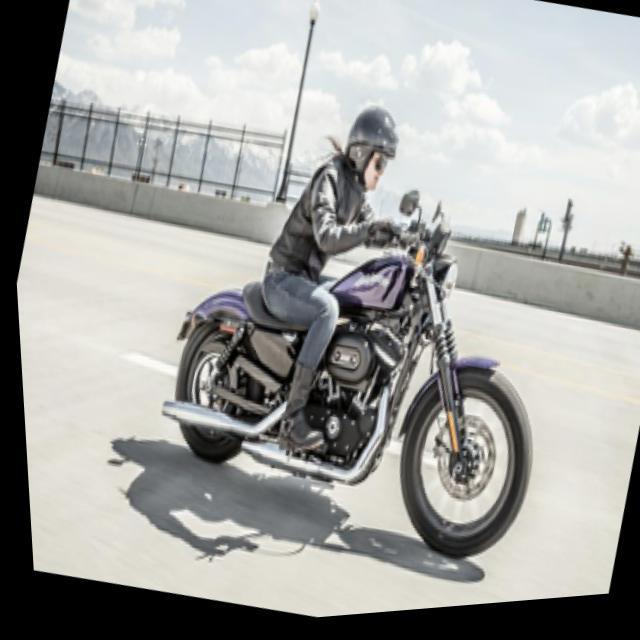Helmet: (344, 96, 402, 194)
